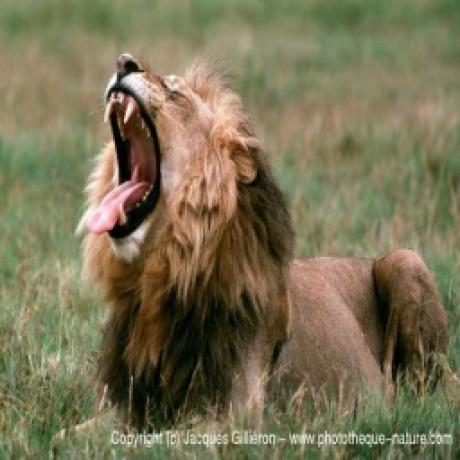Lion: (80, 39, 454, 432)
